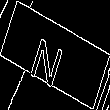N_NE: (34, 24, 76, 86)
